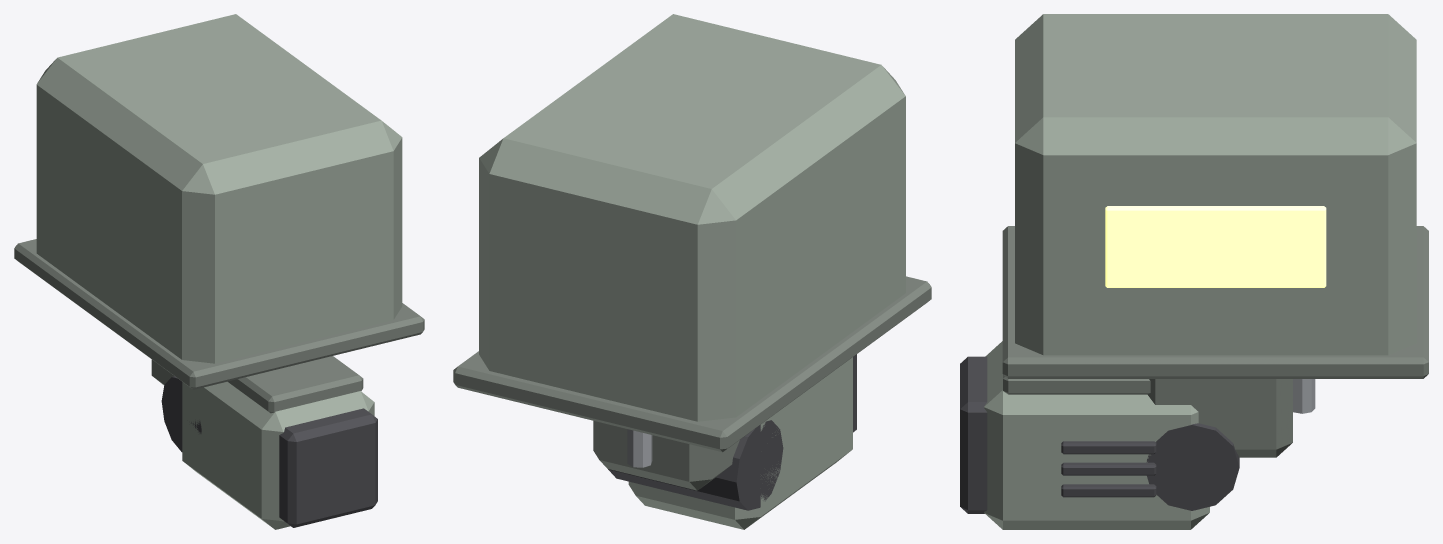
Rendered from heavy-armL.glb.
3 views of the same model, side by side, from view 1: azimuth 30°, elevation 25°; view 2: azimuth 150°, elevation 25°; view 3: azimuth 270°, elevation 25° (orthographic). The views are drawn at different scales.
Parts seen in each view (by area): view 1: armL, joint.forearm, joint.pivot; view 2: armL, joint.pivot, joint.forearm; view 3: armL, joint.forearm, joint.pivot.
Part boxes in pixels (x1,y1,x2,y2): armL: (14, 14, 424, 389); joint.forearm: (182, 356, 377, 529); joint.pivot: (151, 359, 201, 451); armL: (453, 14, 931, 452); joint.pivot: (593, 420, 783, 510); joint.forearm: (628, 354, 856, 529); armL: (1002, 14, 1428, 378); joint.forearm: (960, 341, 1209, 529); joint.pivot: (1146, 379, 1315, 510).
Bounding box in the file's own units: 1.35 × 2.02 × 1.97.
